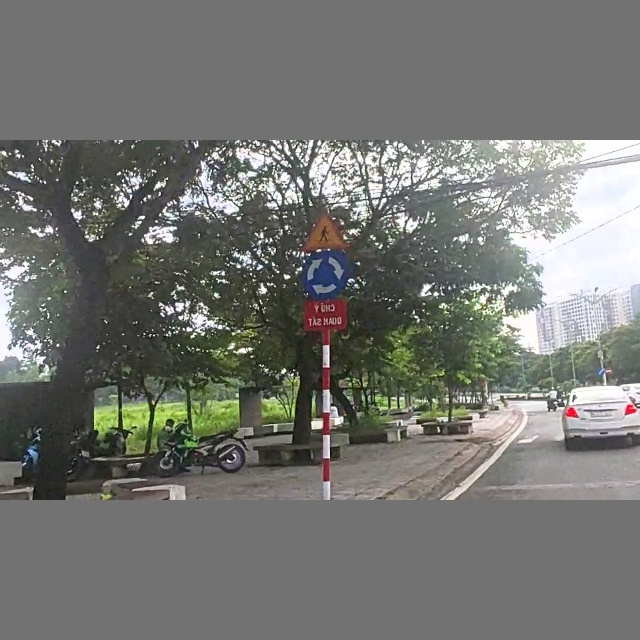P.102: (605, 367, 613, 375)
R.302a: (595, 367, 605, 376)
R.303: (299, 252, 349, 299)
W.224: (297, 213, 349, 252)
